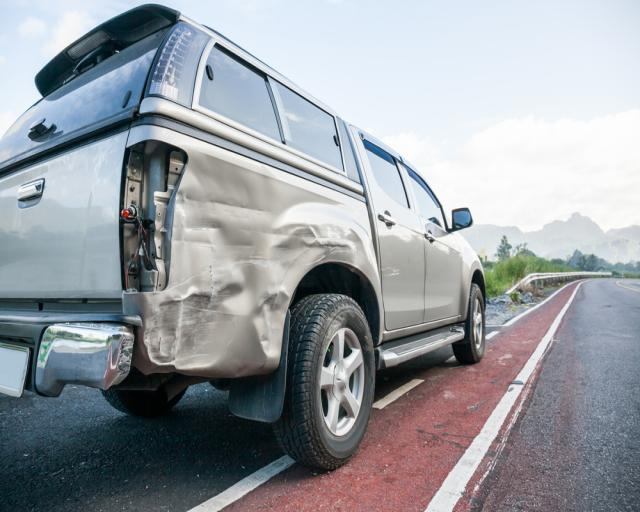dent: (145, 149, 366, 368)
